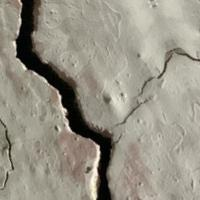crack: (14, 3, 140, 199)
